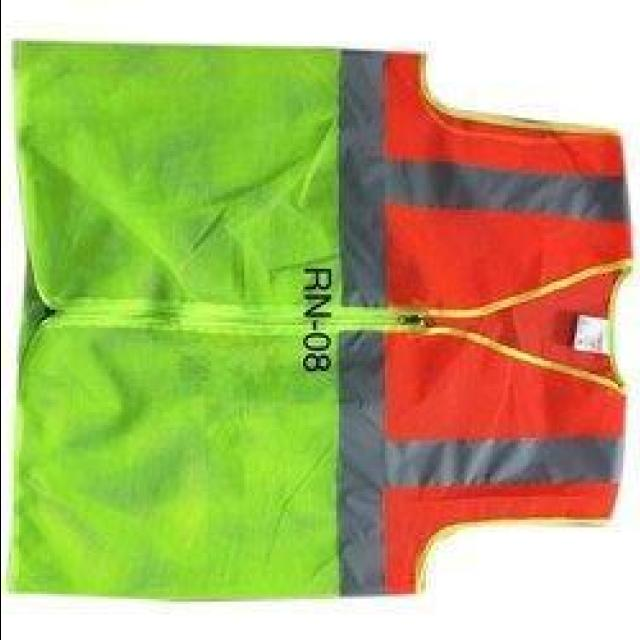jacket: (12, 29, 638, 601)
